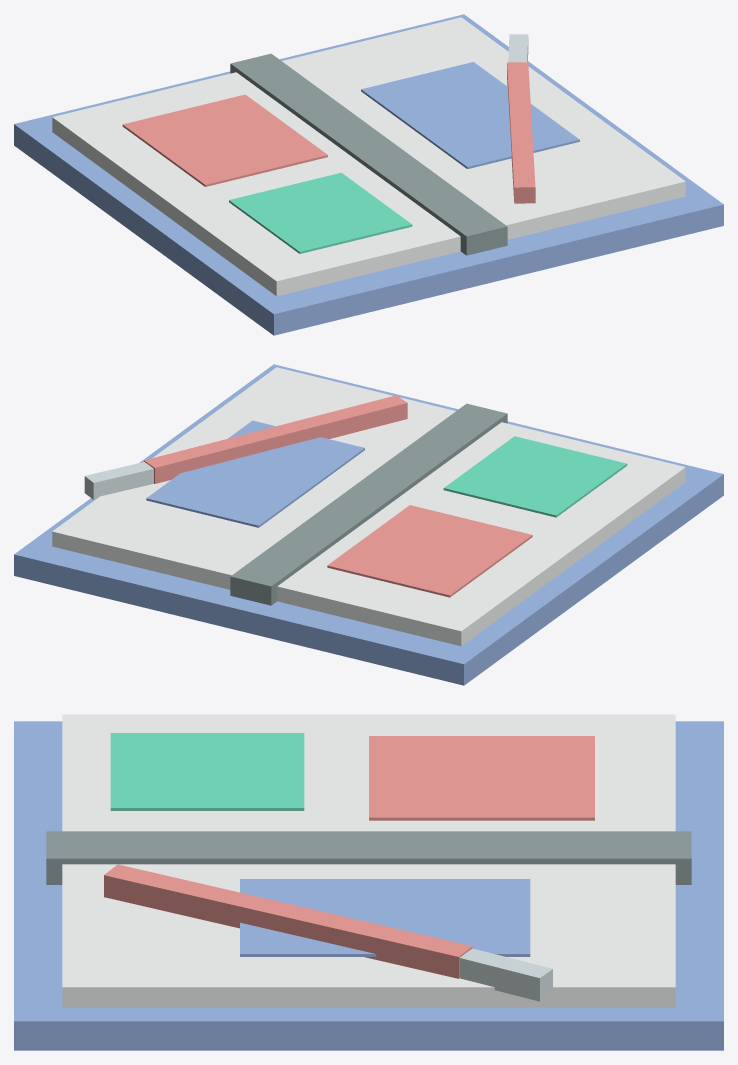
Rendered from sketchbook.glb.
The picture shows the model from 3 angles, top to bottom: view 1: azimuth 30°, elevation 25°; view 2: azimuth 150°, elevation 25°; view 3: azimuth 270°, elevation 25°; orthographic projection. The views are drawn at different scales.
Parts seen in each view (by area): view 1: sketchbook; view 2: sketchbook; view 3: sketchbook.
Part boxes in pixels (left/top/right/bottom): sketchbook: left=14, top=14, right=723, bottom=335; sketchbook: left=14, top=364, right=723, bottom=685; sketchbook: left=14, top=714, right=723, bottom=1050.
Bounding box in the file's own units: 0.22 × 0.0245 × 0.22.
